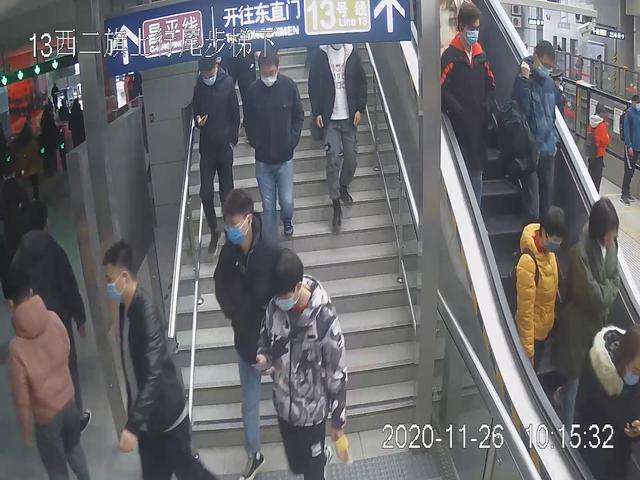person: (95, 238, 224, 480), (244, 240, 357, 480), (213, 188, 293, 480), (1, 267, 86, 480), (562, 195, 623, 442), (240, 44, 308, 244), (308, 29, 372, 235), (440, 1, 496, 221), (186, 54, 242, 265), (506, 196, 564, 392), (507, 41, 560, 252)
